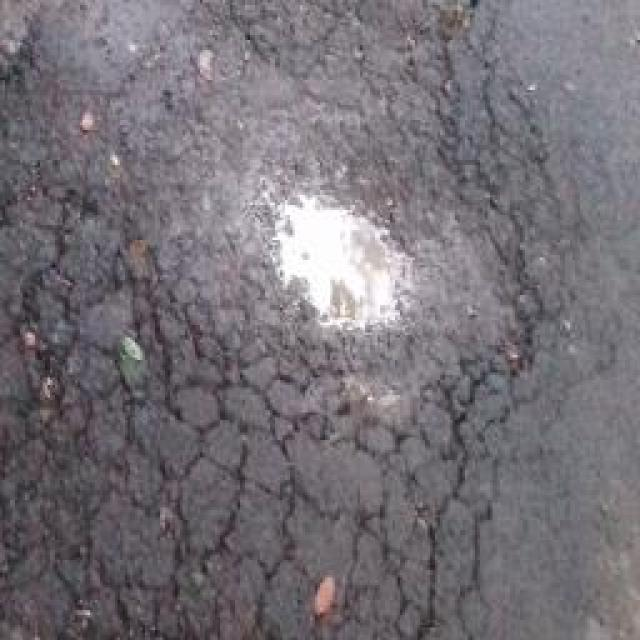puddle: (263, 195, 414, 336)
